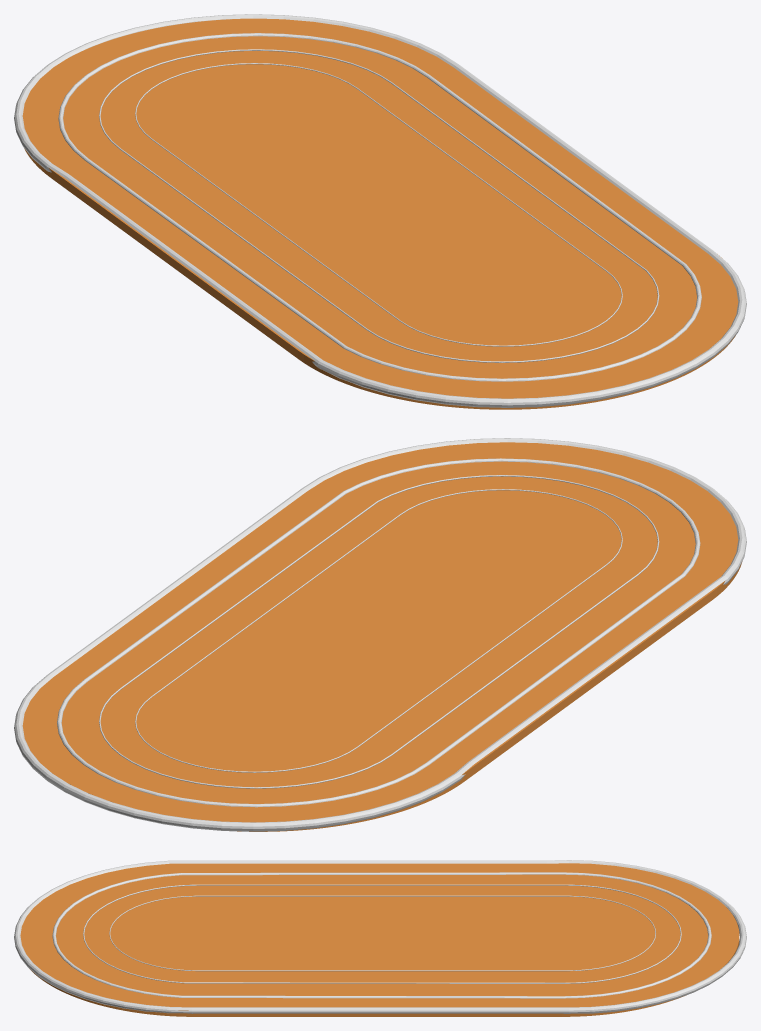
The model's file is pista.fbx.
The picture shows the model from 3 angles, top to bottom: view 1: azimuth 30°, elevation 25°; view 2: azimuth 150°, elevation 25°; view 3: azimuth 270°, elevation 25°; orthographic projection. The views are drawn at different scales.
Visible parts, largest first — view 1: Cube, Torus, Torus.002, Torus.004, Torus.003, Torus.001; view 2: Cube, Torus, Torus.002, Torus.004, Torus.003, Torus.001; view 3: Cube, Torus, Torus.002, Torus.004, Torus.003, Torus.001, Torus.005.
Part boxes in pixels (bbox=[...]): Cube: bbox=[22, 18, 738, 409]; Torus: bbox=[14, 14, 746, 407]; Torus.002: bbox=[58, 33, 701, 381]; Torus.004: bbox=[120, 82, 659, 362]; Torus.003: bbox=[151, 88, 622, 346]; Torus.001: bbox=[99, 49, 391, 149]; Cube: bbox=[22, 442, 741, 831]; Torus: bbox=[14, 438, 746, 831]; Torus.002: bbox=[57, 458, 700, 807]; Torus.004: bbox=[121, 475, 659, 754]; Torus.003: bbox=[152, 489, 622, 747]; Torus.001: bbox=[99, 688, 392, 788]; Cube: bbox=[20, 863, 739, 1016]; Torus: bbox=[14, 860, 746, 1013]; Torus.002: bbox=[52, 872, 711, 998]; Torus.004: bbox=[83, 884, 564, 983]; Torus.003: bbox=[109, 895, 567, 971]; Torus.001: bbox=[565, 884, 681, 983]; Torus.005: bbox=[567, 895, 655, 971].
Size of the model in its own units: 215 by 5.94 by 443.
